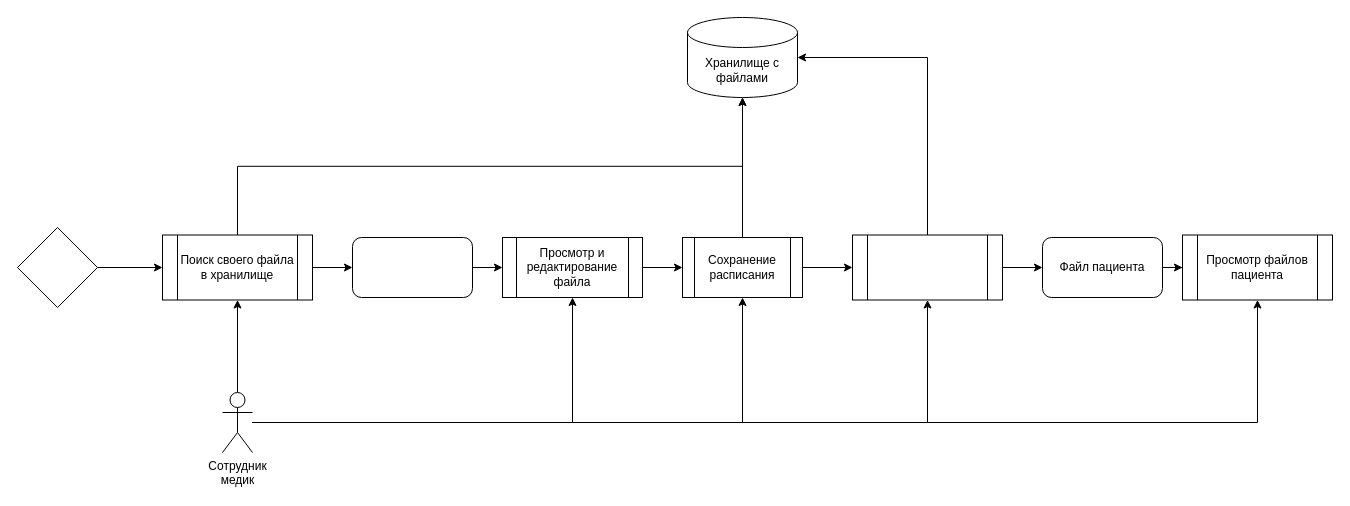
This 1350x506 diagram has some shape labels left out. The centre of each missing label's shape, as x and y in pixels:
"Начало" goes at point (57, 267).
"Поиск файлов о пациенте" goes at point (927, 267).
"Файл с данными о записях пациентов" goes at point (412, 267).
